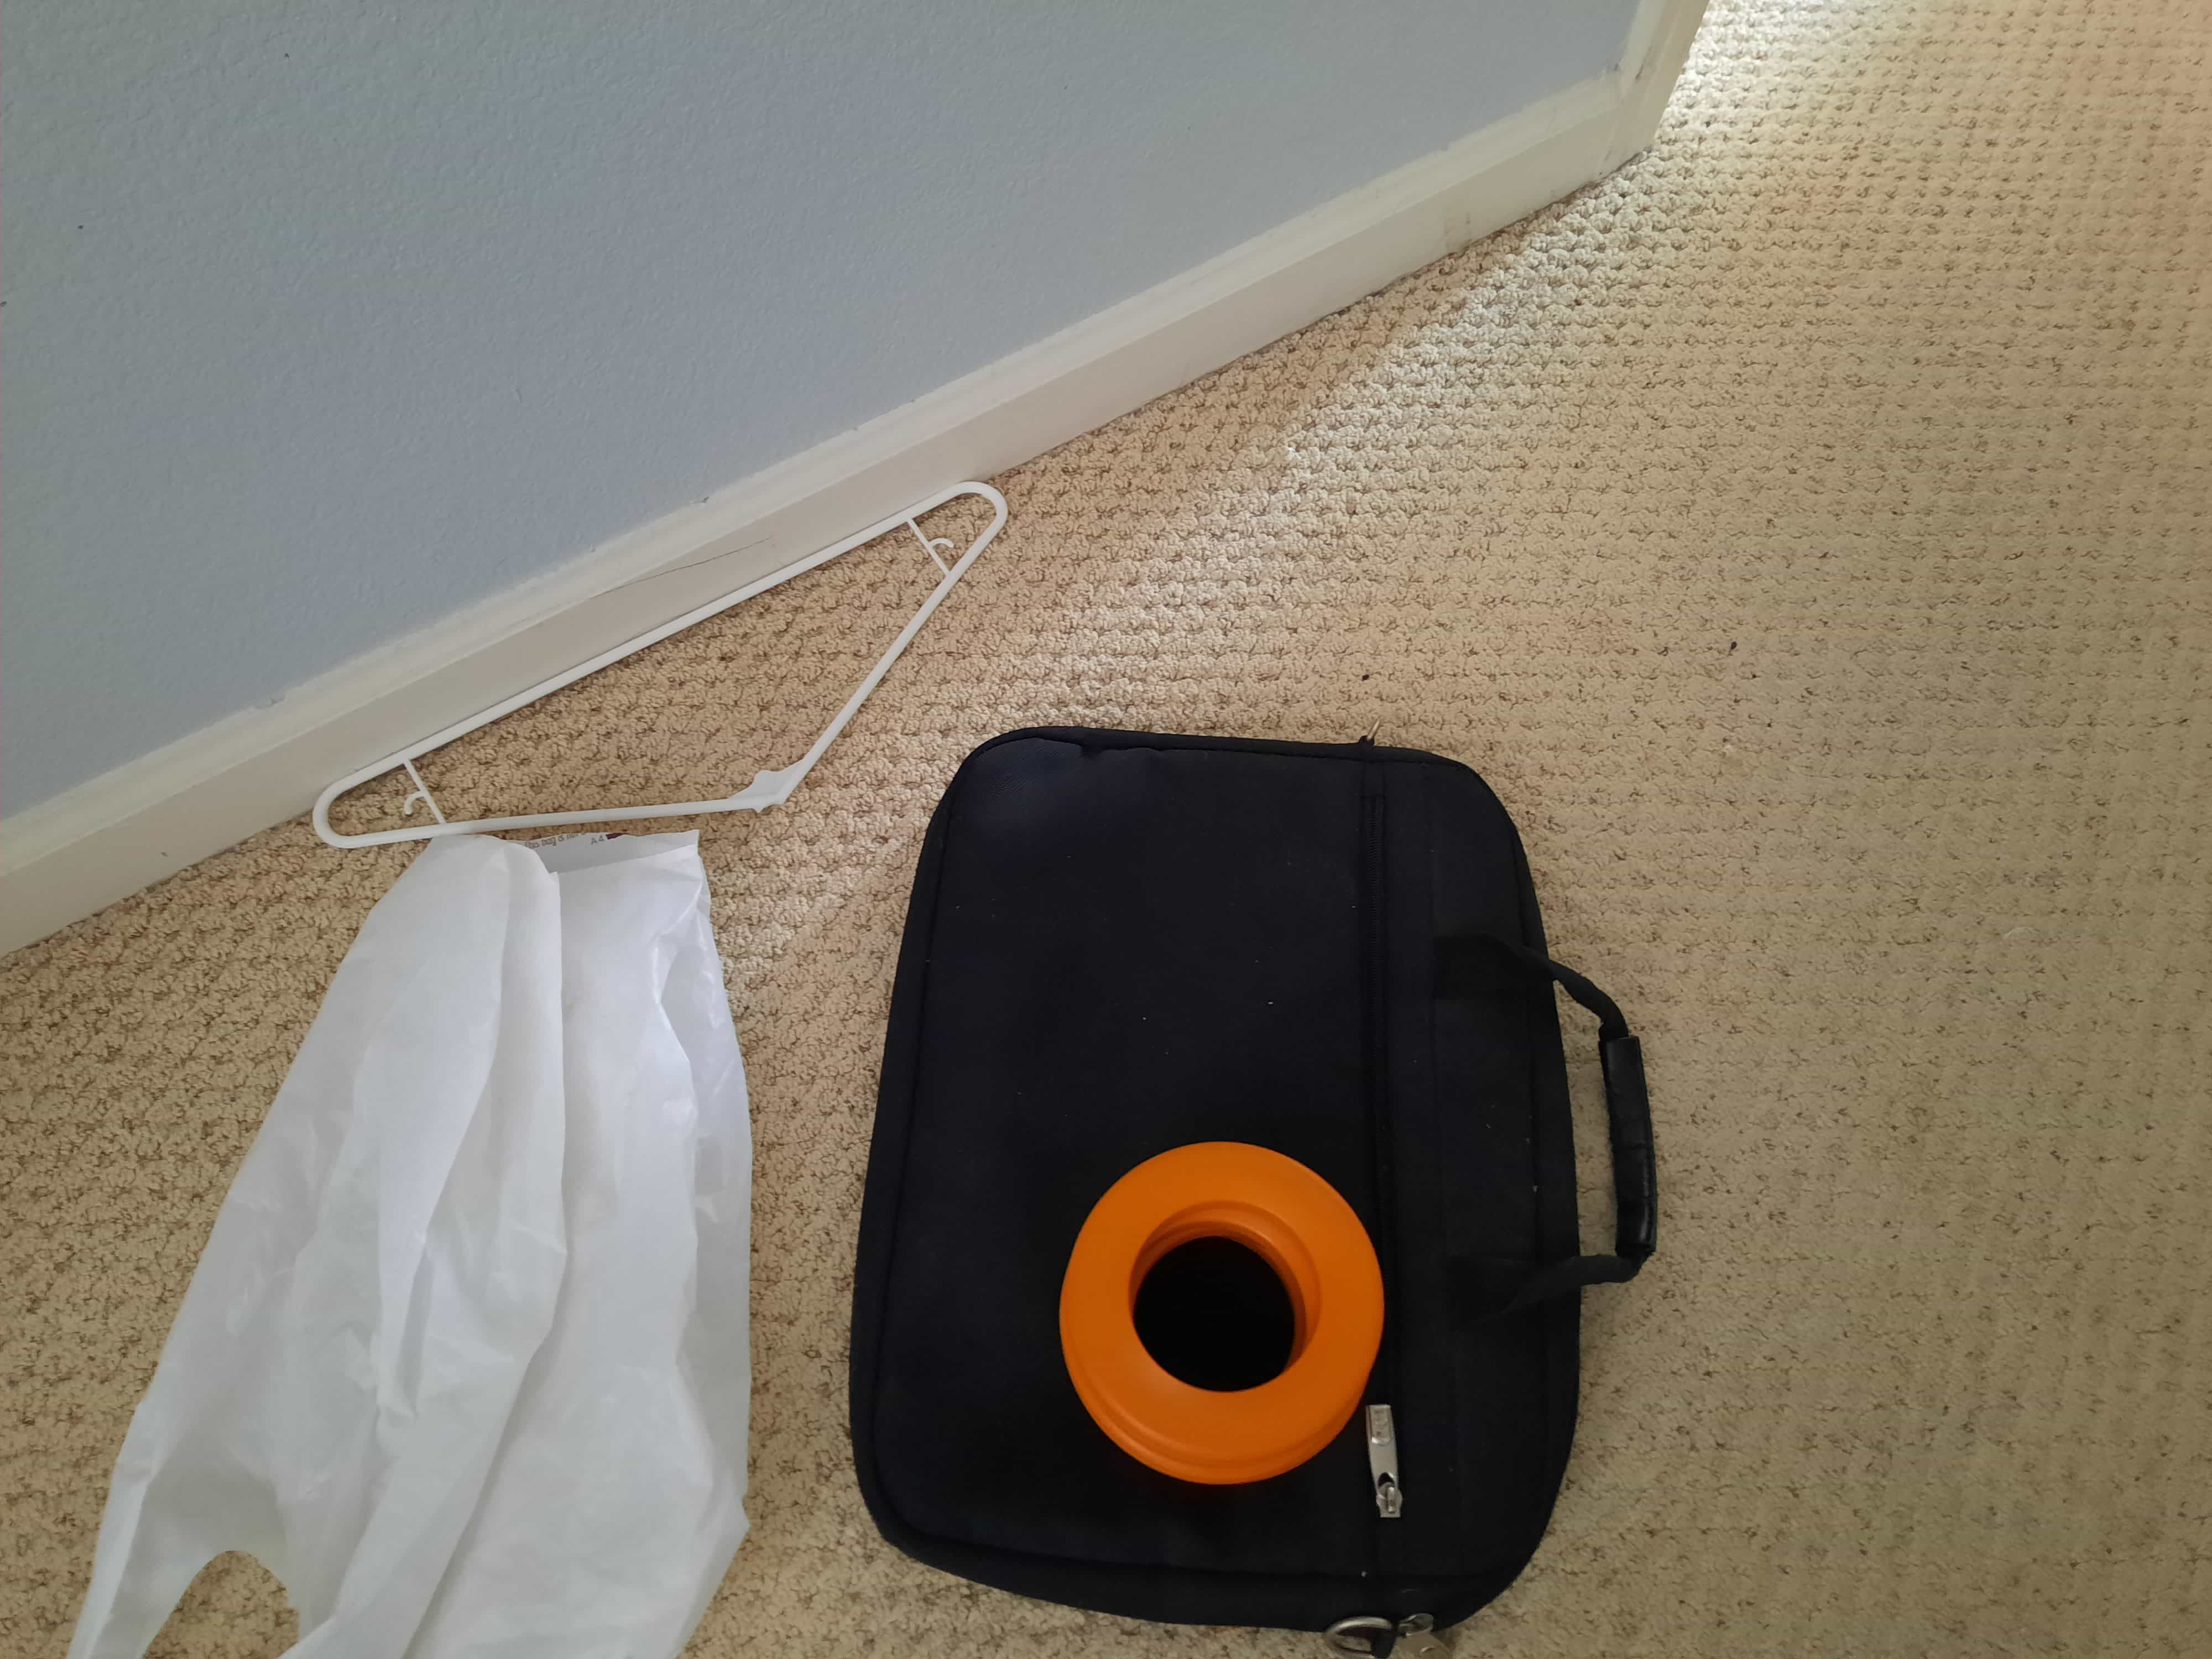FourStack: (1069, 1140, 1385, 1476)
